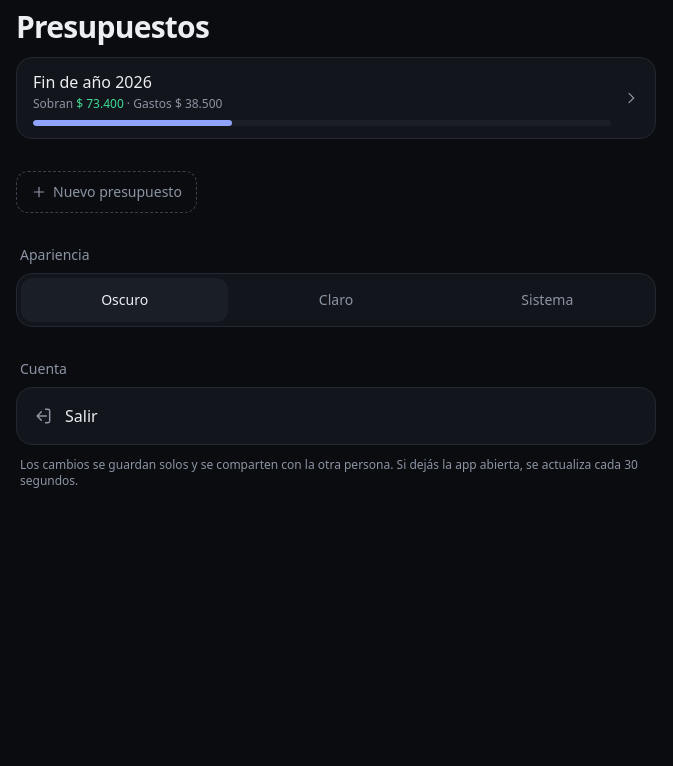
Test: crear un presupuesto › cancelar cierra el formulario sin crear nada
Click the button "Nuevo presupuesto" at (106, 192), box [16,171,197,213]
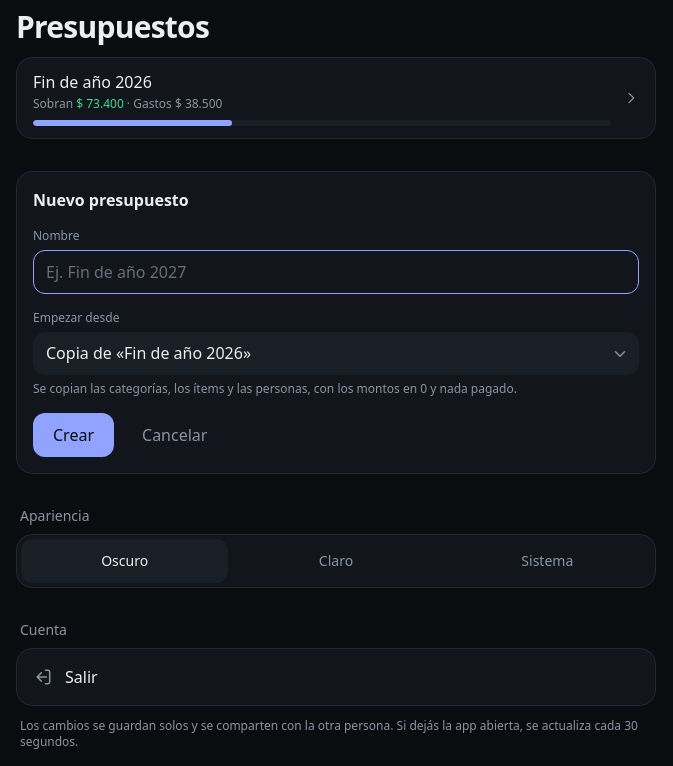
Click the button "Cancelar" at (175, 435), box [126,413,223,457]
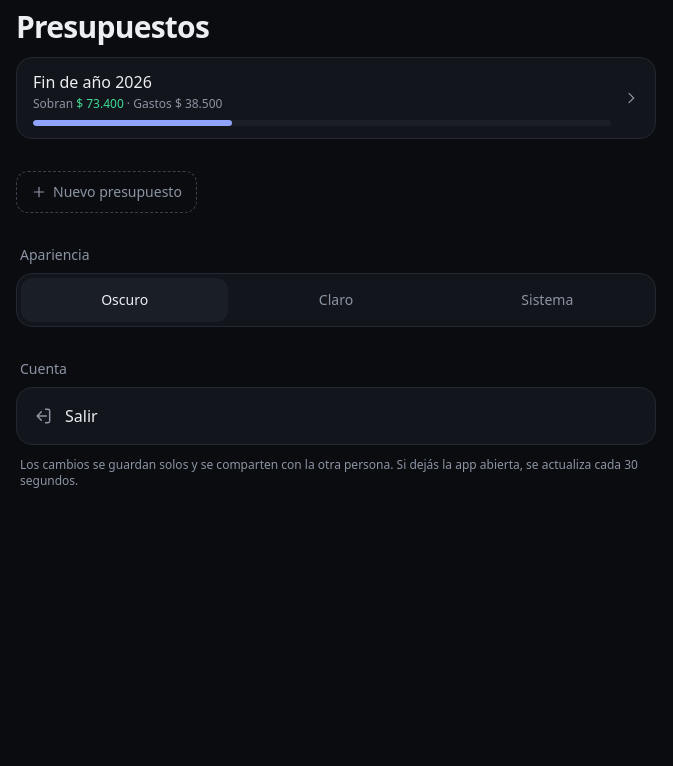
Result: the button "Crear" is gone
